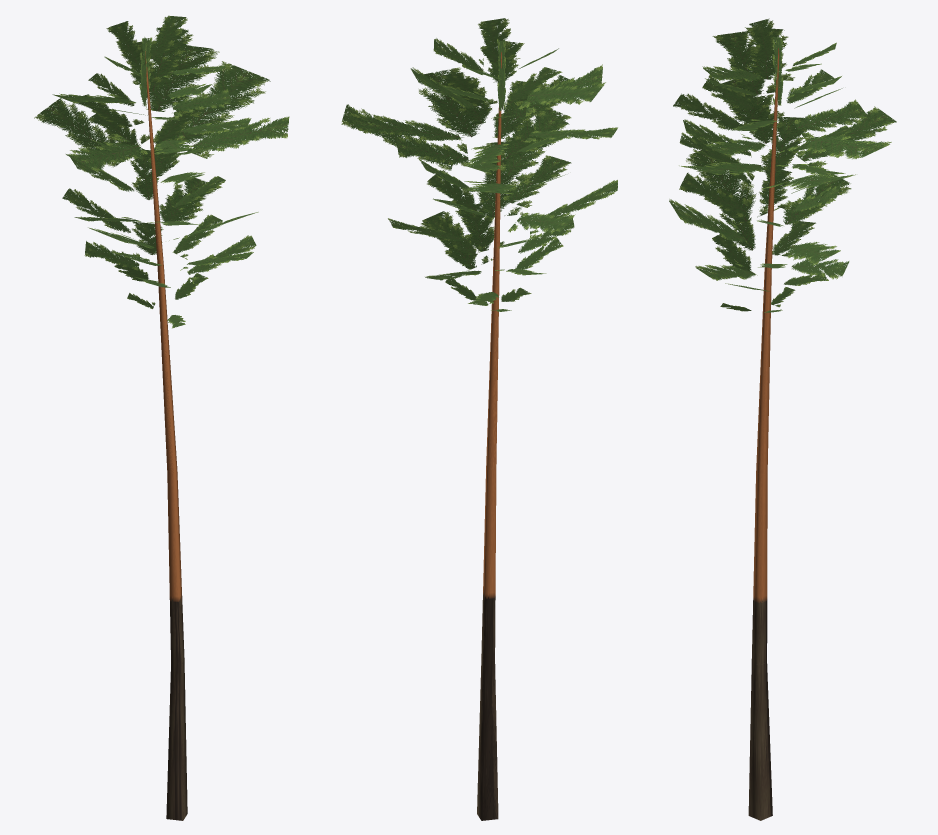
File: mid.glb
3 renders of one model, left to right at view 1: azimuth 30°, elevation 25°; view 2: azimuth 150°, elevation 25°; view 3: azimuth 270°, elevation 25°, orthographic. The views are drawn at different scales.
Parts seen in each view (by area): view 1: pine_04; view 2: pine_04; view 3: pine_04.
Boxes of the visible parts, left/top/right/bottom form: pine_04: left=34, top=15, right=289, bottom=820; pine_04: left=341, top=18, right=617, bottom=820; pine_04: left=669, top=18, right=896, bottom=820.
Bounding box in the file's own units: 7.51 × 21.57 × 6.91.
Materials: 2 (2 with a texture image).
